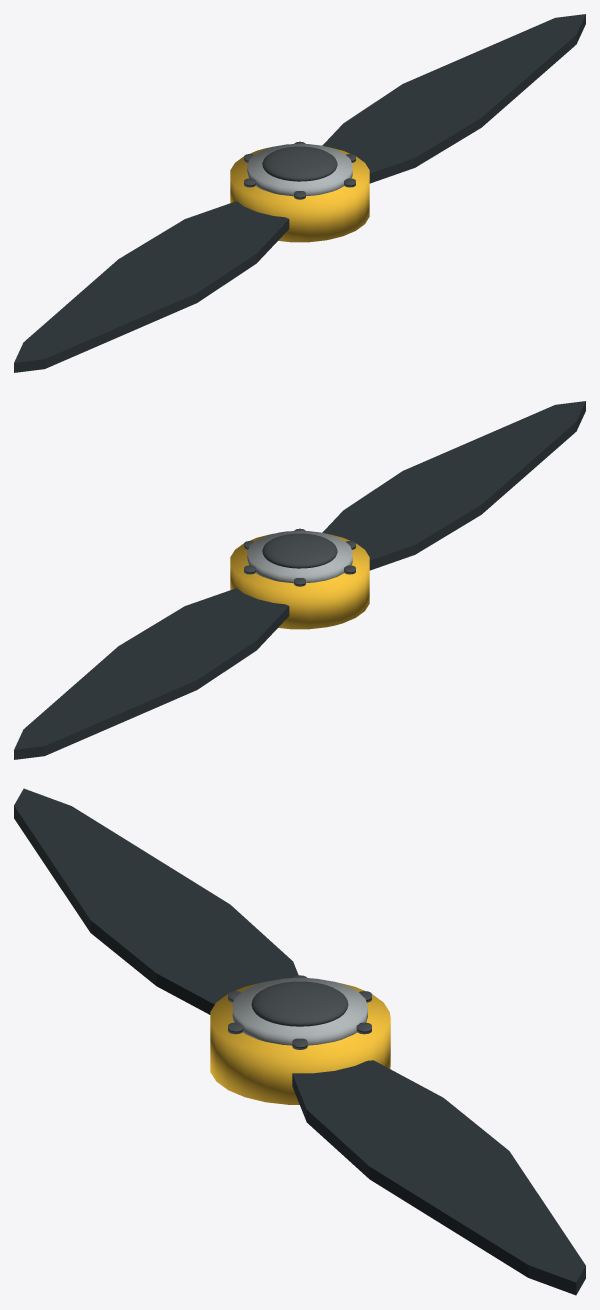
Rendered from elice_drone.glb.
3 renders of one model, top to bottom at view 1: azimuth 30°, elevation 25°; view 2: azimuth 210°, elevation 25°; view 3: azimuth 270°, elevation 25°, orthographic. The views are drawn at different scales.
Parts seen in each view (by area): view 1: HeliceParte_Carbono | pás da hélice, HeliceParte_Amarelo de segurança.002, HeliceParte_Grafite | motor, HeliceParte_Alumínio escovado.002; view 2: HeliceParte_Carbono | pás da hélice, HeliceParte_Amarelo de segurança.002, HeliceParte_Grafite | motor, HeliceParte_Alumínio escovado.002; view 3: HeliceParte_Carbono | pás da hélice, HeliceParte_Amarelo de segurança.002, HeliceParte_Grafite | motor, HeliceParte_Alumínio escovado.002.
Boxes of the visible parts, x1,y1,x2,y2 form: HeliceParte_Carbono | pás da hélice: (14, 14, 585, 372); HeliceParte_Amarelo de segurança.002: (230, 146, 369, 242); HeliceParte_Grafite | motor: (244, 141, 355, 199); HeliceParte_Alumínio escovado.002: (247, 143, 352, 196); HeliceParte_Carbono | pás da hélice: (14, 401, 585, 759); HeliceParte_Amarelo de segurança.002: (230, 533, 369, 629); HeliceParte_Grafite | motor: (244, 528, 355, 586); HeliceParte_Alumínio escovado.002: (247, 530, 352, 583); HeliceParte_Carbono | pás da hélice: (14, 788, 585, 1295); HeliceParte_Amarelo de segurança.002: (210, 981, 390, 1104); HeliceParte_Grafite | motor: (228, 975, 371, 1049); HeliceParte_Alumínio escovado.002: (232, 978, 367, 1045).
Size of the model in its own units: 1.81 by 0.1245 by 0.8845.
